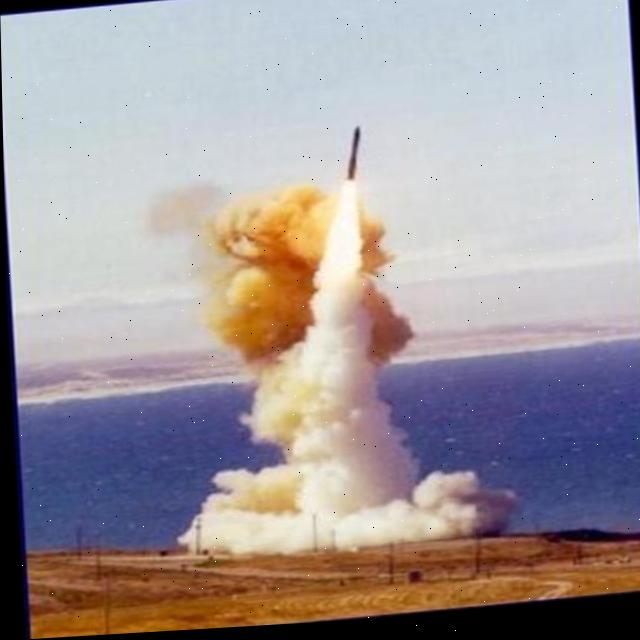missile: (335, 124, 384, 190)
